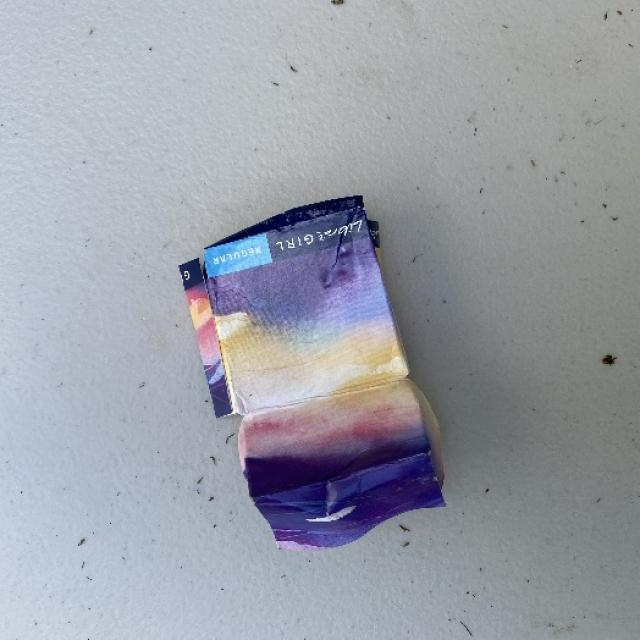kertas: (160, 213, 455, 561)
